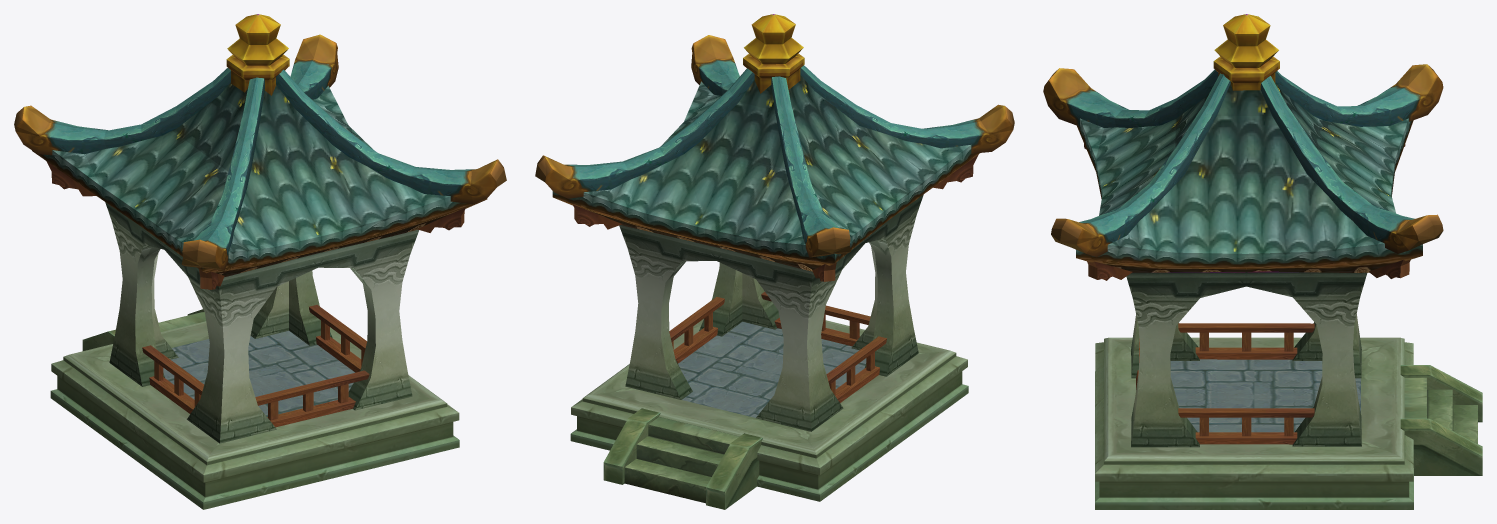
File: xiaotingzi.FBX
The picture shows the model from 3 angles, left to right: view 1: azimuth 30°, elevation 25°; view 2: azimuth 150°, elevation 25°; view 3: azimuth 270°, elevation 25°; orthographic projection. The views are drawn at different scales.
Parts seen in each view (by area): view 1: Box012; view 2: Box012; view 3: Box012.
Part boxes in pixels (x1=…): Box012: x1=14, y1=14, x2=506, y2=509; Box012: x1=535, y1=14, x2=1014, y2=509; Box012: x1=1043, y1=14, x2=1482, y2=509.
Size of the model in its own units: 546 by 659 by 610.
